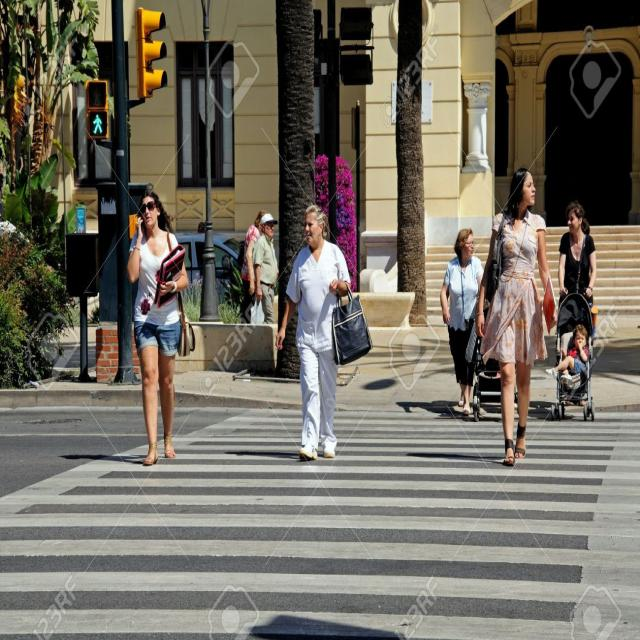body: (274, 202, 374, 462), (474, 164, 558, 469), (125, 187, 197, 468), (395, 278, 521, 430), (439, 226, 489, 418), (185, 219, 249, 325), (556, 198, 598, 310), (240, 208, 268, 324), (544, 322, 592, 388), (252, 212, 279, 325)
